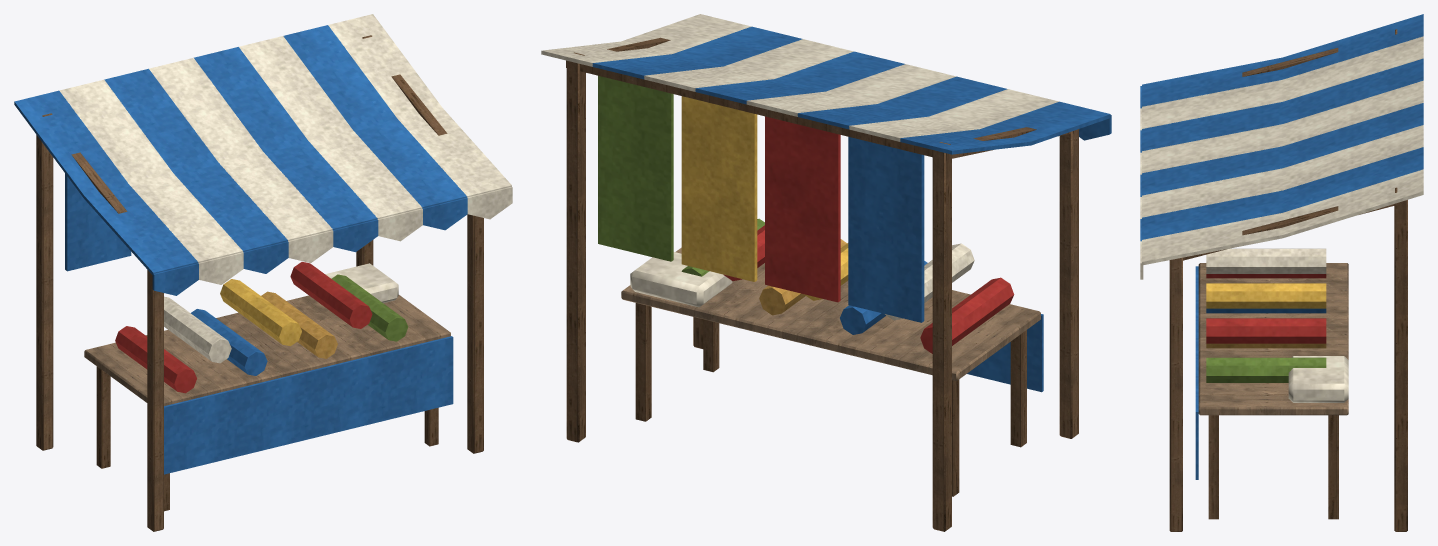
The model's file is biz_stall_t1_cloth.glb.
3 renders of one model, left to right at view 1: azimuth 30°, elevation 25°; view 2: azimuth 150°, elevation 25°; view 3: azimuth 270°, elevation 25°, orthographic. The views are drawn at different scales.
Visible parts, largest first — view 1: cloth_azure, cloth_cream, wood_dark, wood, cloth_red, cloth_gold, cloth_ochre, cloth_olive; view 2: cloth_azure, wood_dark, cloth_cream, cloth_red, wood, cloth_gold, cloth_olive, cloth_ochre; view 3: cloth_cream, cloth_azure, wood_dark, wood, cloth_red, cloth_gold, cloth_olive, cloth_ochre.
Boxes of the visible parts, bbox=[...] form: cloth_azure: bbox=[14, 25, 467, 474]; cloth_cream: bbox=[59, 14, 512, 363]; wood_dark: bbox=[36, 35, 483, 531]; wood: bbox=[84, 295, 450, 405]; cloth_red: bbox=[115, 262, 372, 393]; cloth_gold: bbox=[220, 279, 301, 346]; cloth_ochre: bbox=[261, 291, 337, 358]; cloth_olive: bbox=[331, 274, 408, 341]; cloth_azure: bbox=[592, 26, 1111, 392]; wood_dark: bbox=[566, 37, 1079, 531]; cloth_cream: bbox=[541, 14, 1058, 320]; cloth_red: bbox=[723, 116, 1014, 353]; wood: bbox=[621, 247, 1040, 380]; cloth_gold: bbox=[681, 96, 848, 300]; cloth_olive: bbox=[598, 75, 764, 276]; cloth_ochre: bbox=[759, 239, 846, 315]; cloth_cream: bbox=[1140, 36, 1423, 402]; cloth_azure: bbox=[1140, 14, 1423, 479]; wood_dark: bbox=[1169, 29, 1407, 531]; wood: bbox=[1198, 263, 1348, 415]; cloth_red: bbox=[1206, 274, 1326, 343]; cloth_gold: bbox=[1206, 283, 1326, 308]; cloth_olive: bbox=[1206, 357, 1326, 382]; cloth_ochre: bbox=[1206, 343, 1326, 348].
Size of the model in its own units: 2.8 by 2.56 by 1.89.
Materials: 8 (8 with a texture image).
